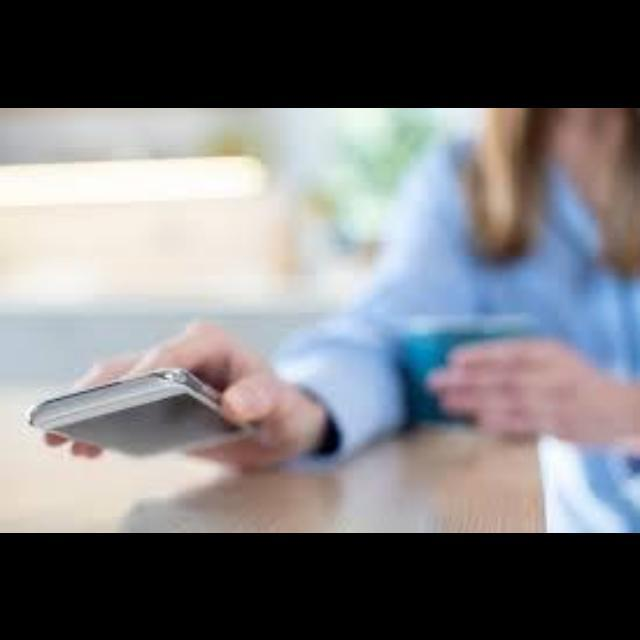phone: (19, 354, 297, 480)
